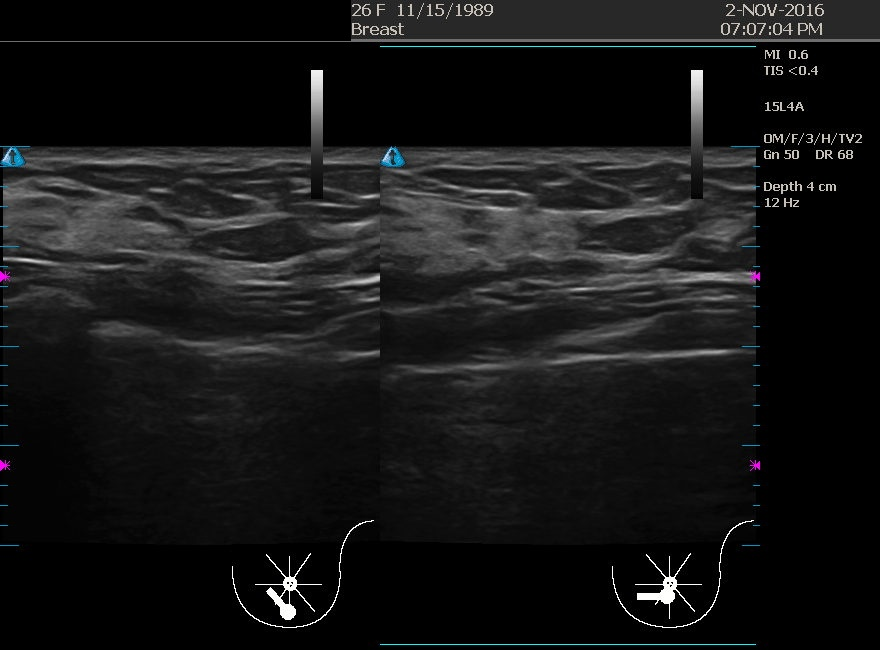BIRADS_2: (508, 201, 708, 402), (173, 207, 373, 407)
